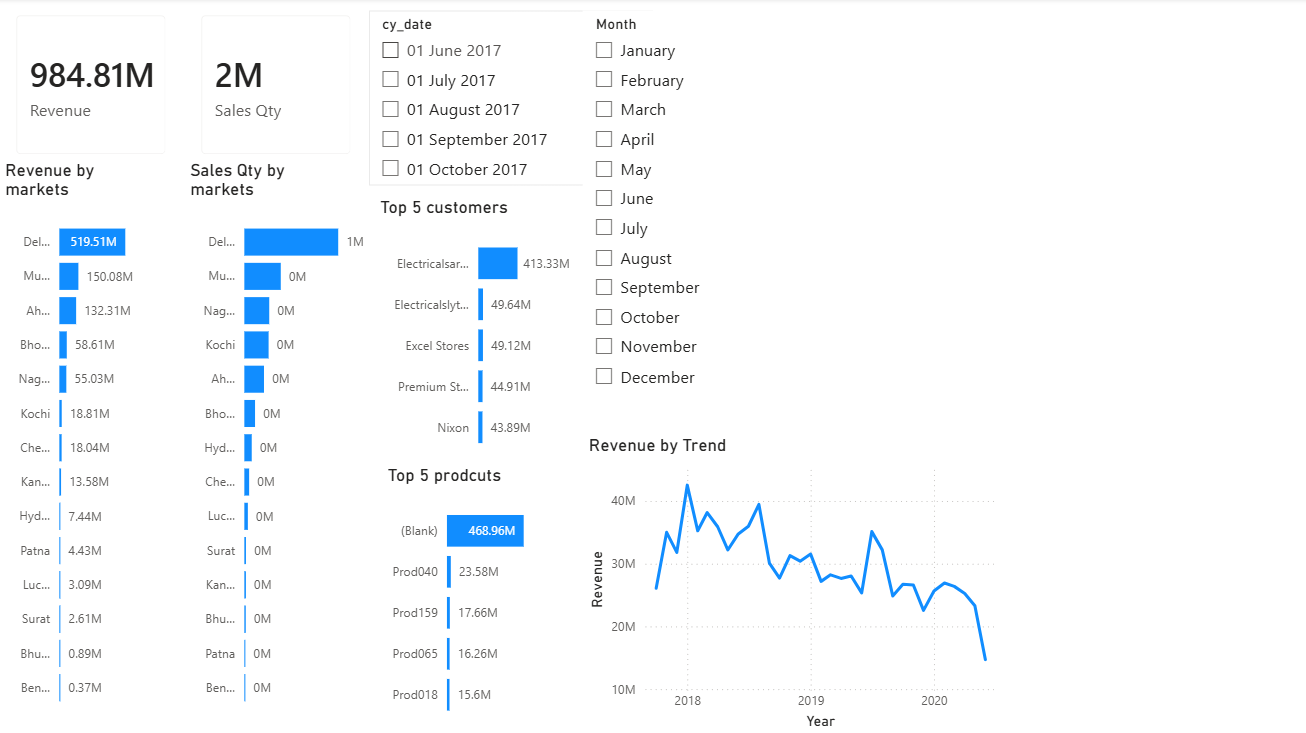

Layout of this report page (visuals, bound fields, positions):
{"tool":"powerbi","page":{"name":"Page 1","canvas":[1280,720],"ordinal":0},"visuals":[{"type":"cardVisual","fields":{"Data":["BaseMeasure.Revenue"]},"box":[0,0,180.8,170.8],"z":0},{"type":"cardVisual","fields":{"Data":["BaseMeasure.Sales Qty"]},"box":[180.8,0,180.8,170.8],"z":1000},{"type":"barChart","title":"Sales Qty by markets","fields":{"Y":["BaseMeasure.Sales Qty"],"Category":["sales markets.markets_name"]},"box":[181.7,157.5,180.8,549.2],"z":2000},{"type":"slicer","fields":{"Values":["sales date.cy_date"]},"box":[361.7,12.5,277.5,170.8],"z":3000},{"type":"barChart","title":"Revenue by markets","fields":{"Y":["BaseMeasure.Revenue"],"Category":["sales markets.markets_name"]},"box":[0.8,157.5,180.8,549.2],"z":4000},{"type":"slicer","fields":{"Values":["sales date.cy_date.Variation.Date Hierarchy.Month"]},"box":[571.7,12.5,277.5,386.7],"z":5000},{"type":"barChart","title":"Top 5 customers","fields":{"Category":["sales customers.custmer_name"],"Y":["BaseMeasure.Revenue"]},"box":[368.3,195,195.8,263.3],"z":6000},{"type":"barChart","title":"Top 5 prodcuts","fields":{"Y":["BaseMeasure.Revenue"],"Category":["sales products.product_code"]},"box":[375.8,456.7,195.8,263.3],"z":7000},{"type":"lineChart","title":"Revenue by Trend","fields":{"Y":["BaseMeasure.Revenue"],"Category":["sales date.cy_date.Variation.Date Hierarchy.Year","sales date.cy_date.Variation.Date Hierarchy.Quarter","sales date.cy_date.Variation.Date Hierarchy.Month","sales date.cy_date.Variation.Date Hierarchy.Day"]},"box":[572.5,426.7,410.8,293.3],"z":8000}]}

Visuals, with their boxes in screenshot pixels (x1, y1, x2, y2), scaled from the page's 1280x720 canvas onto the 1306x733 screenshot:
cardVisual - BaseMeasure.Revenue: (x1=0, y1=0, x2=184, y2=174)
cardVisual - BaseMeasure.Sales Qty: (x1=184, y1=0, x2=369, y2=174)
"Sales Qty by markets" barChart: (x1=185, y1=160, x2=370, y2=719)
slicer - sales date.cy_date: (x1=369, y1=13, x2=652, y2=187)
"Revenue by markets" barChart: (x1=1, y1=160, x2=185, y2=719)
slicer - sales date.cy_date.Variation.Date Hierarchy.Month: (x1=583, y1=13, x2=866, y2=406)
"Top 5 customers" barChart: (x1=376, y1=199, x2=576, y2=467)
"Top 5 prodcuts" barChart: (x1=383, y1=465, x2=583, y2=732)
"Revenue by Trend" lineChart: (x1=584, y1=434, x2=1003, y2=732)
